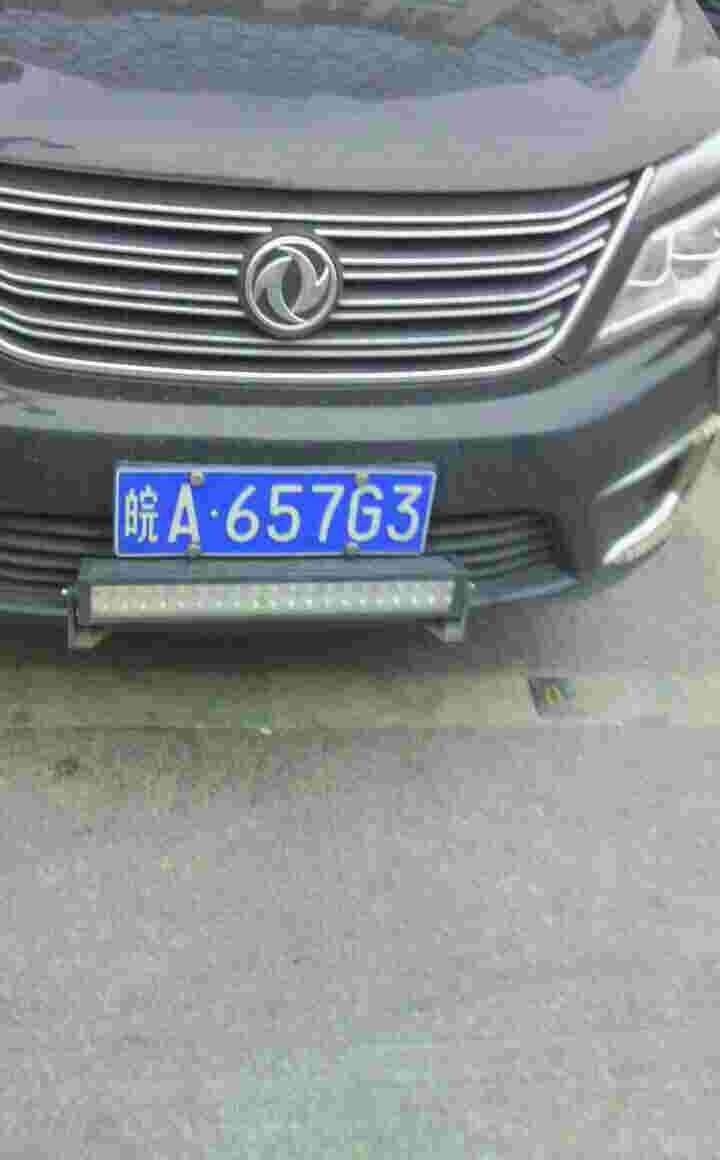license_plate: (107, 467, 423, 565)
